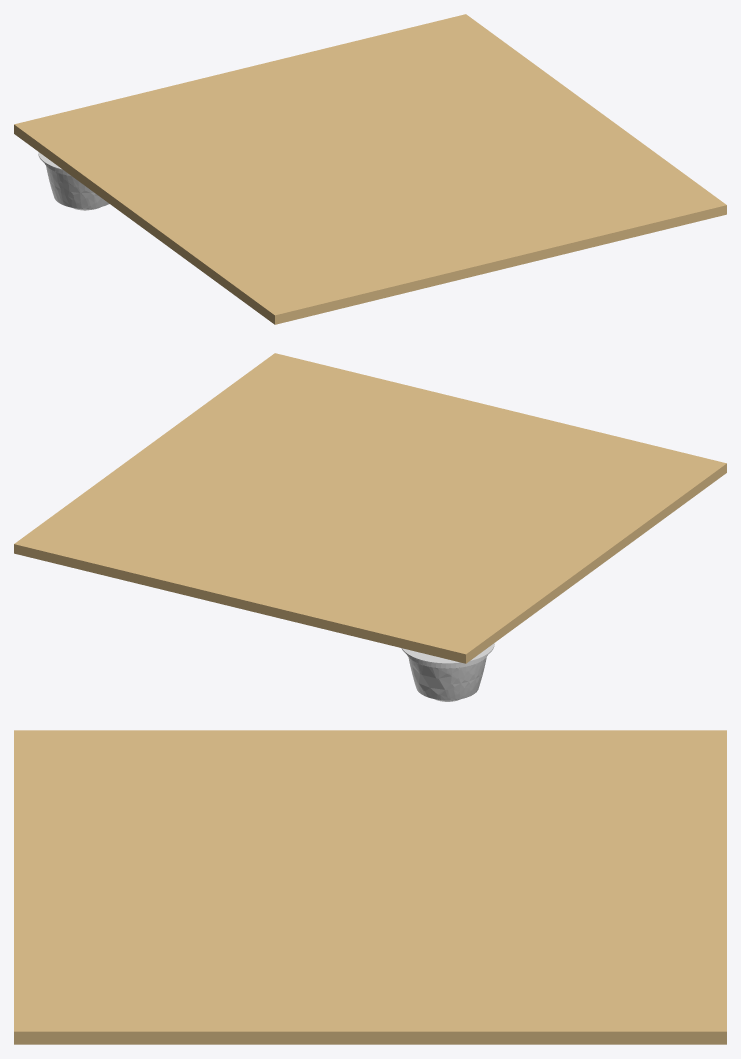
The model's file is capsulero2.glb.
3 renders of one model, top to bottom at view 1: azimuth 30°, elevation 25°; view 2: azimuth 150°, elevation 25°; view 3: azimuth 270°, elevation 25°, orthographic. The views are drawn at different scales.
Parts seen in each view (by area): view 1: Cube.002, FabConvert.com_dolce gusto pod holder; view 2: Cube.002, FabConvert.com_dolce gusto pod holder; view 3: Cube.002.
Boxes of the visible parts, bbox=[...] form: Cube.002: bbox=[14, 14, 726, 324]; FabConvert.com_dolce gusto pod holder: bbox=[38, 152, 109, 210]; Cube.002: bbox=[14, 353, 726, 663]; FabConvert.com_dolce gusto pod holder: bbox=[401, 643, 494, 701]; Cube.002: bbox=[14, 730, 726, 1044].
Size of the model in its own units: 0.3 by 0.0469 by 0.3.
